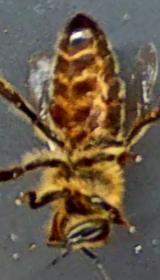varroa_mite: (40, 94, 66, 128)
